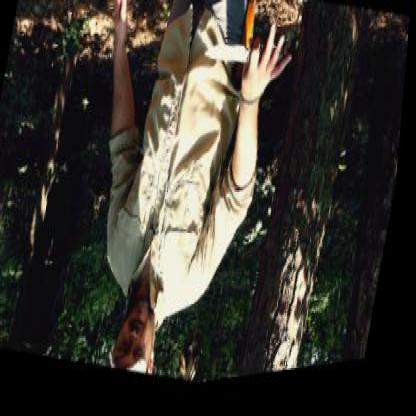knife: (198, 5, 290, 98)
